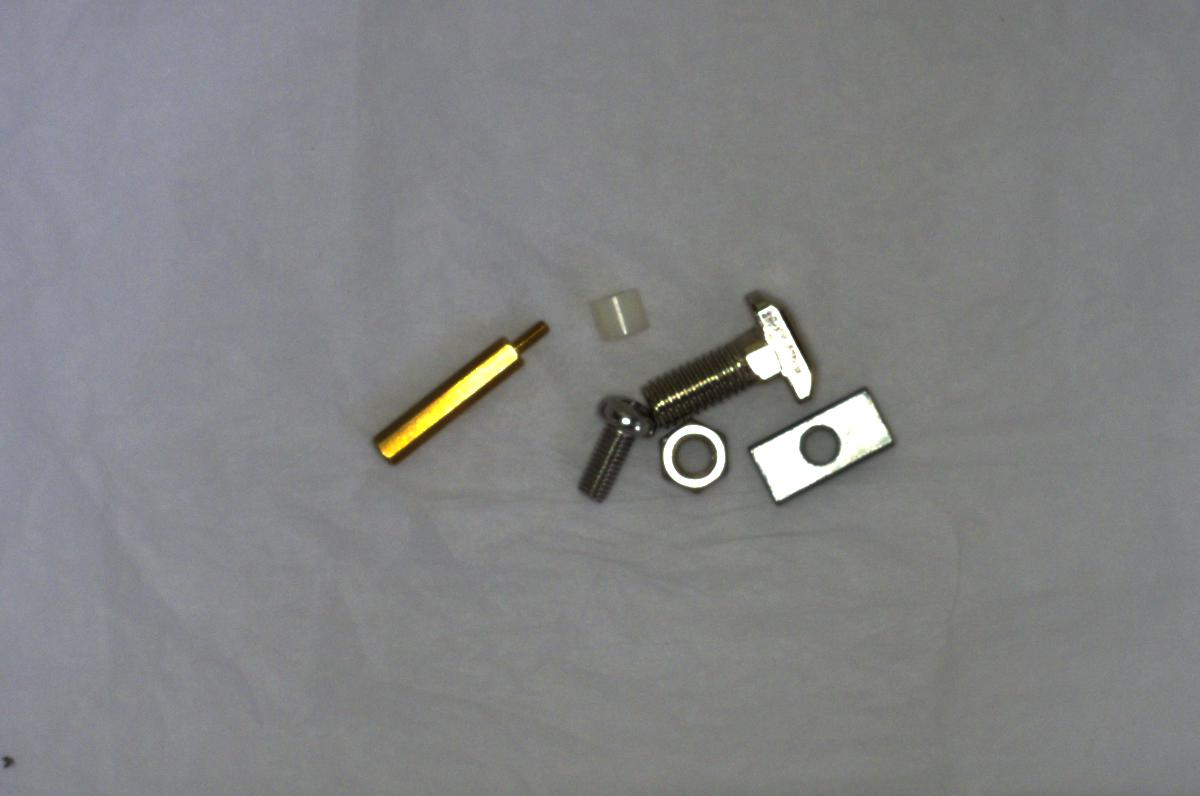Hexagon nut: (654, 422, 740, 496)
Hexagon pillar: (375, 314, 550, 463)
Plastic cushion pillar: (585, 276, 662, 347)
Rectangular nut: (746, 382, 901, 501)
Round head screw: (561, 388, 659, 502)
T-shaped screw: (642, 294, 824, 416)
